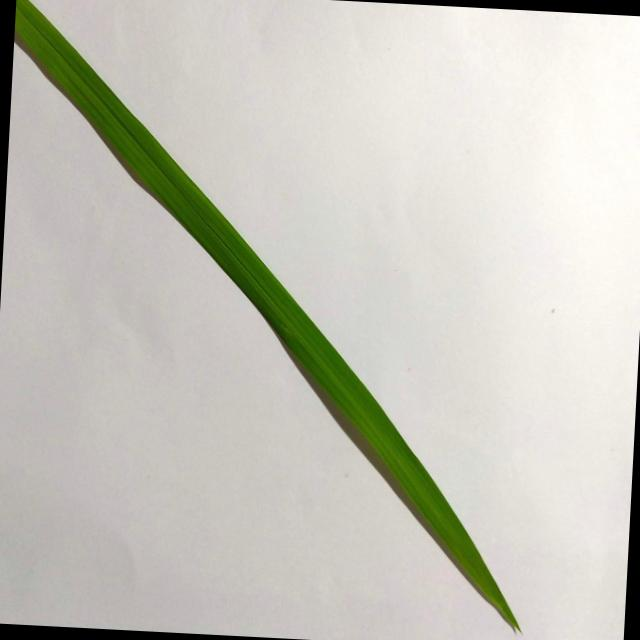Rice_Healthy: (15, 0, 520, 630)
